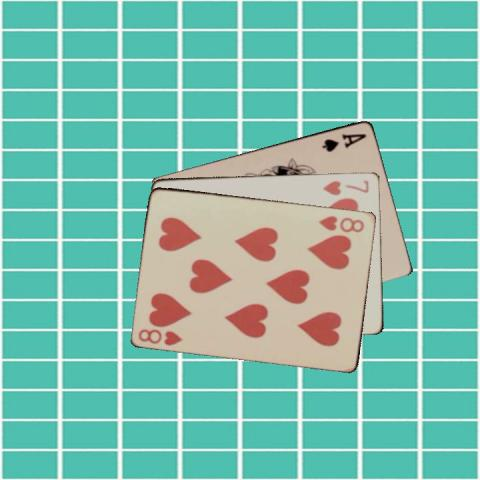7h: (320, 176, 371, 196)
8h: (135, 325, 184, 347), (317, 213, 366, 234)
As: (319, 130, 368, 153)
